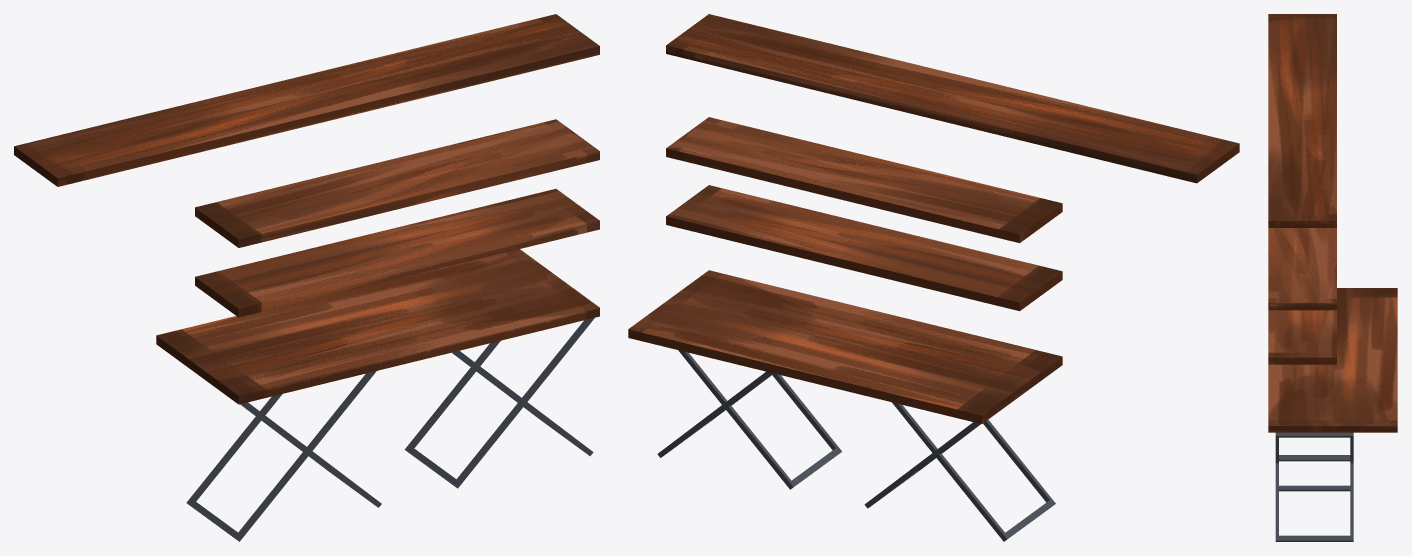
Rendered from X_chest.FBX.
3 views of the same model, side by side, from view 1: azimuth 30°, elevation 25°; view 2: azimuth 150°, elevation 25°; view 3: azimuth 270°, elevation 25° (orthographic). The views are drawn at different scales.
Visible parts, largest first — view 1: X_chest; view 2: X_chest; view 3: X_chest.
Boxes of the visible parts, bbox=[...] form: X_chest: bbox=[14, 14, 599, 541]; X_chest: bbox=[628, 14, 1239, 541]; X_chest: bbox=[1268, 14, 1397, 541].
Bounding box in the file's own units: 249 × 181 × 65.55.
1 material, 1 textured.
